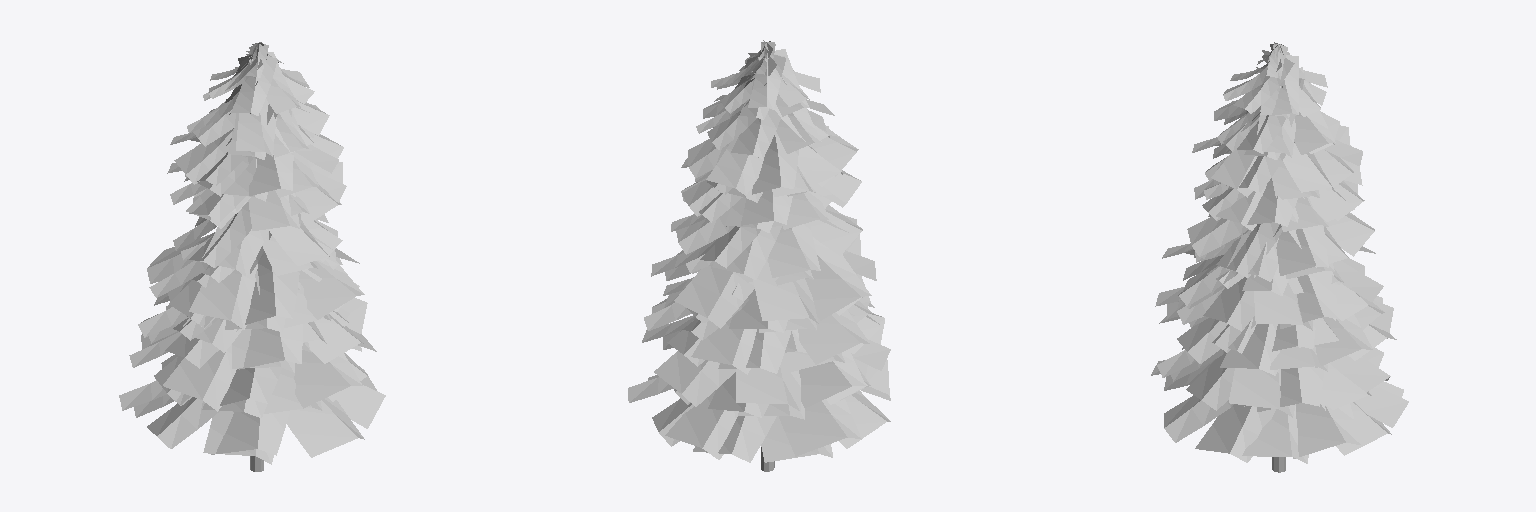
Rendered from Tree09.obj.
3 renders of one model, left to right at view 1: azimuth 30°, elevation 25°; view 2: azimuth 150°, elevation 25°; view 3: azimuth 270°, elevation 25°, orthographic.
Visible parts, largest first — view 1: Cylinder.009; view 2: Cylinder.009; view 3: Cylinder.009.
Part boxes in pixels (bbox=[...]): Cylinder.009: bbox=[119, 42, 385, 471]; Cylinder.009: bbox=[628, 40, 890, 471]; Cylinder.009: bbox=[1151, 42, 1408, 472].
Bounding box in the file's own units: 4.12 × 7.37 × 4.06.